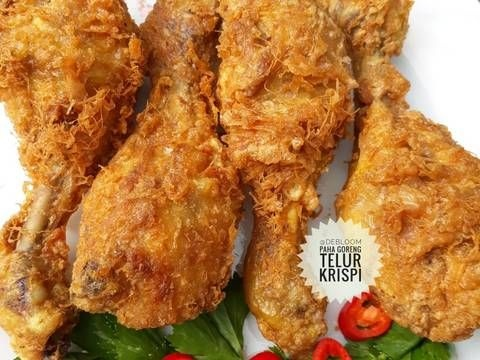ayam_goreng: (64, 0, 223, 331), (211, 0, 359, 347)
